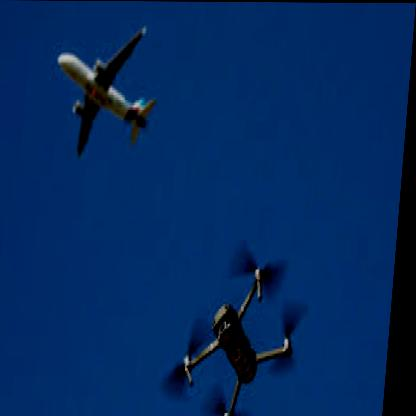Aircraft: (51, 26, 162, 157)
UAS: (165, 236, 318, 416)
